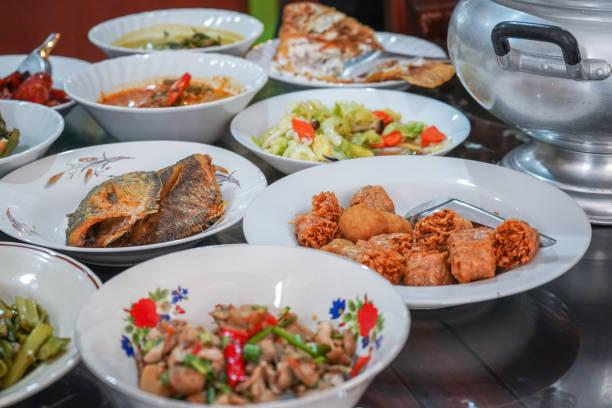Braised Crucian Carp: (81, 243, 413, 403), (240, 155, 586, 306), (0, 140, 266, 262), (230, 86, 461, 175), (65, 53, 270, 146)
